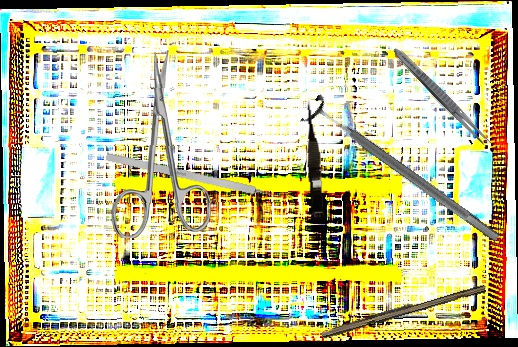Dressing Forceps: (389, 44, 496, 151)
Fixation Ring: (299, 92, 508, 254)
Hook Surgical: (105, 152, 289, 203)
Iris Scissors: (110, 51, 216, 240)
Micro Scissor: (302, 99, 328, 221)
Scalpel Handle: (319, 279, 487, 342)
